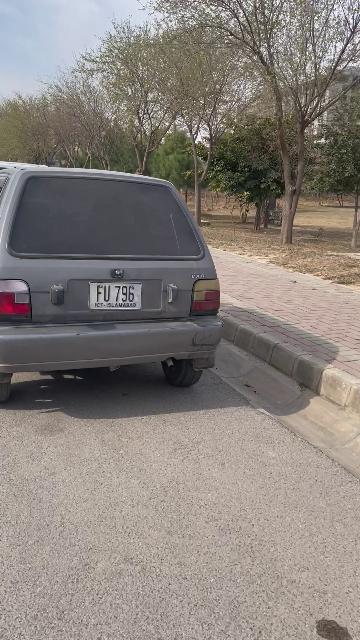plate: (89, 282, 142, 309)
